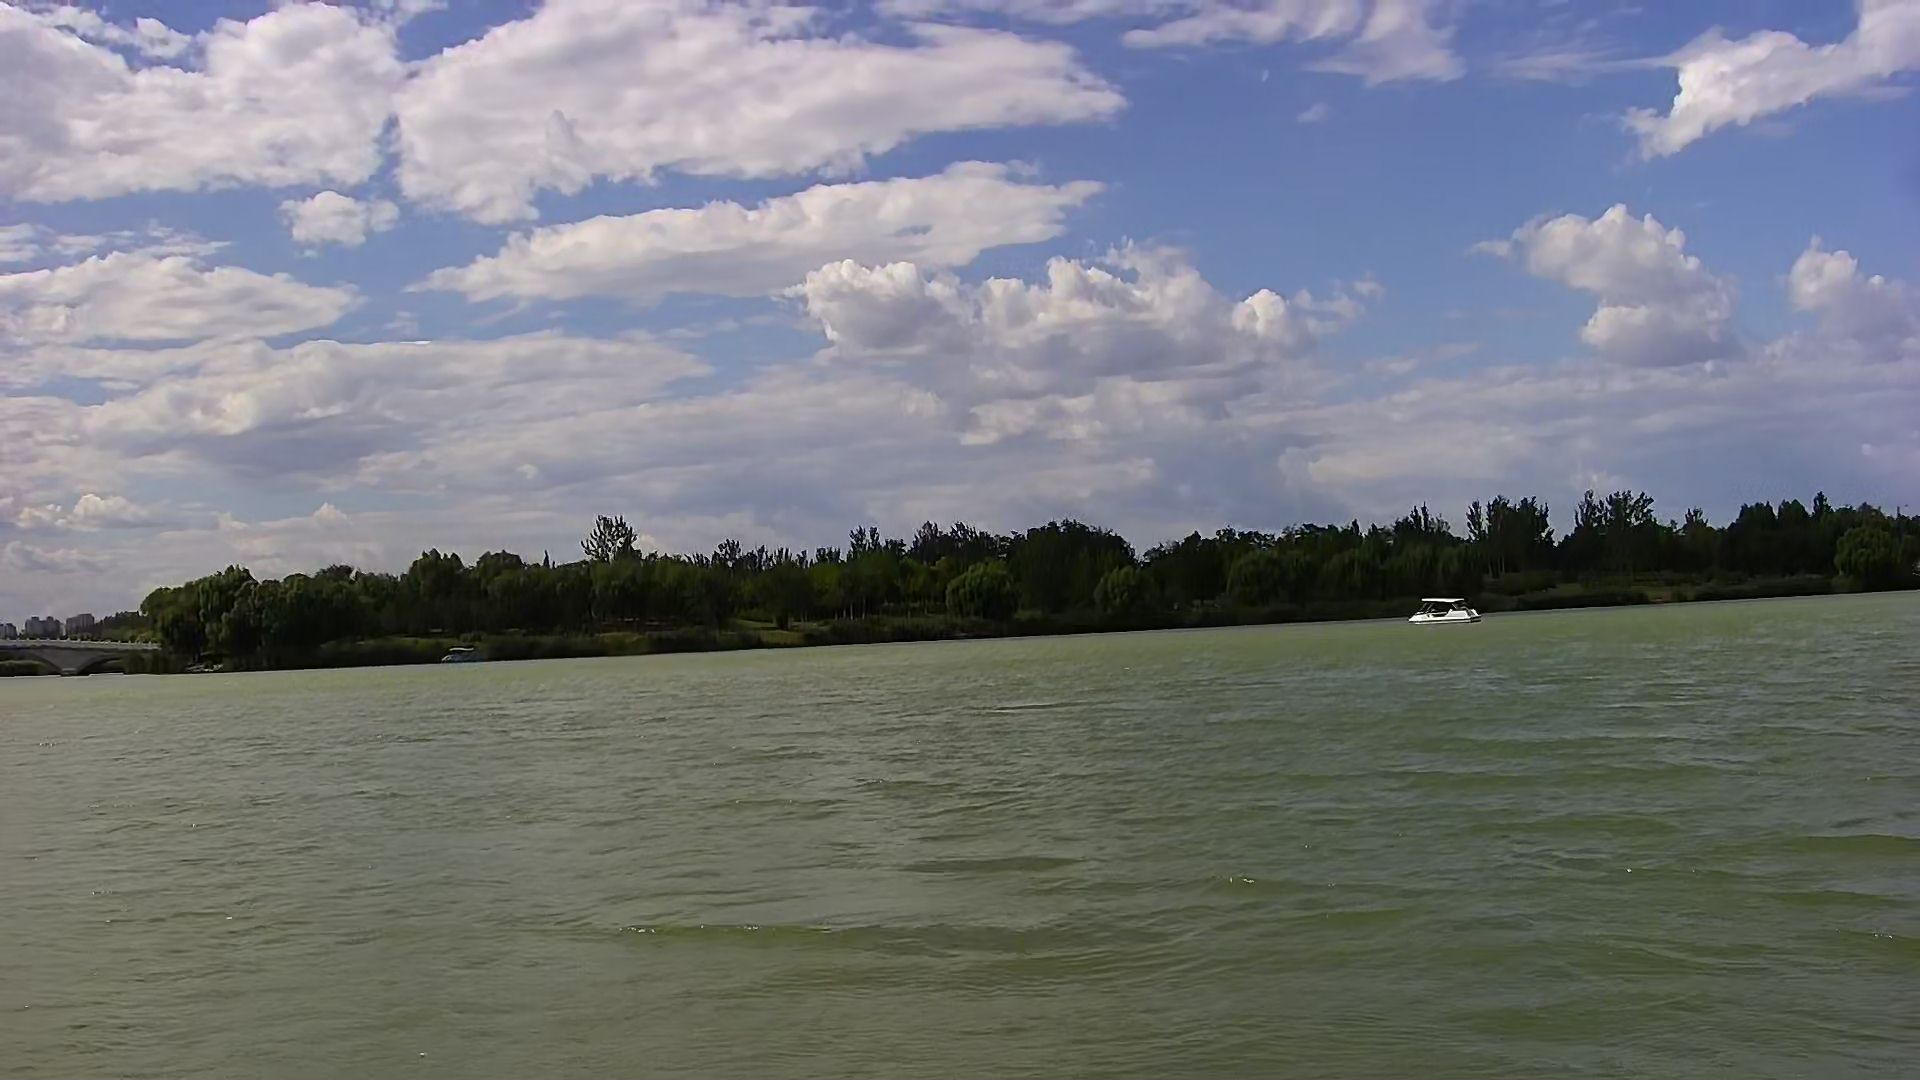boat: (1408, 588, 1487, 629), (438, 645, 483, 669)
bridge: (1, 636, 166, 673)
